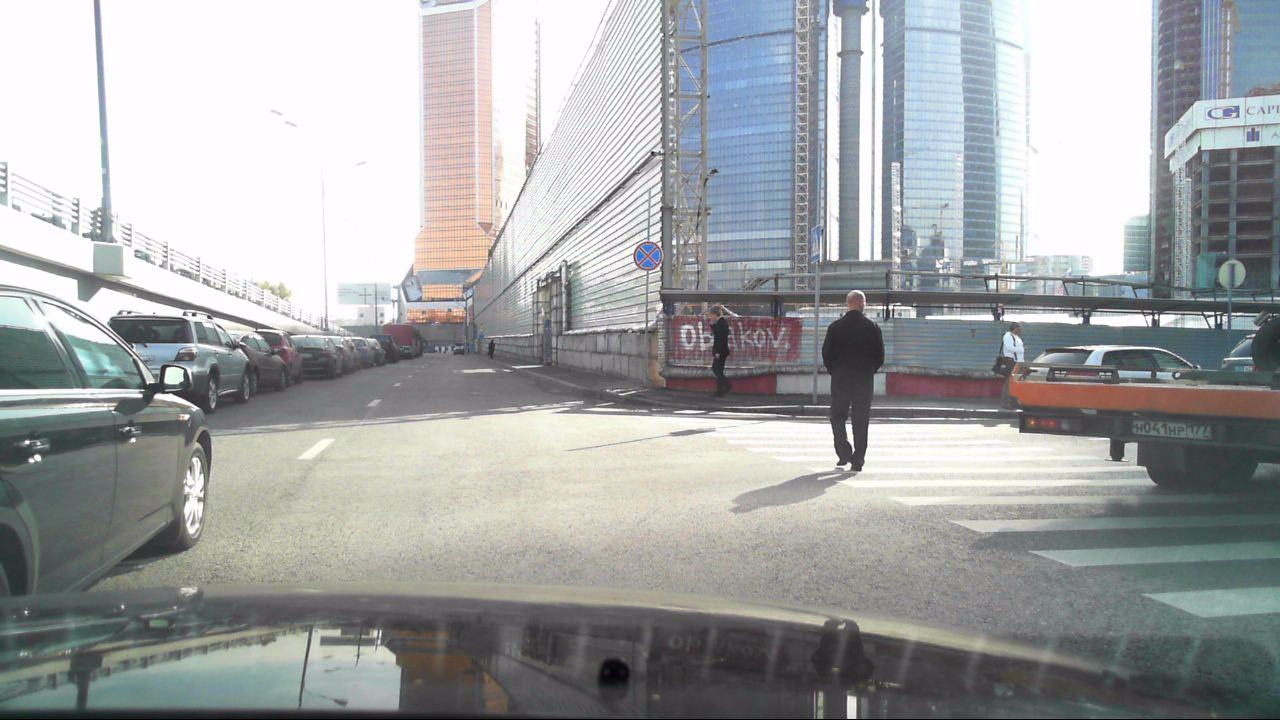No Parking: (631, 241, 661, 271)
